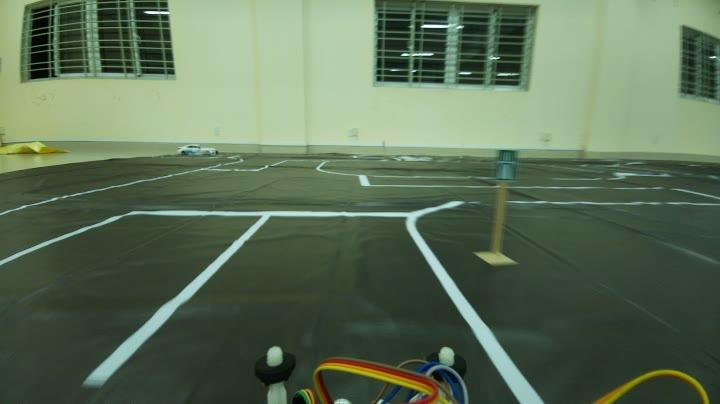highway_entry: (489, 144, 524, 190)
